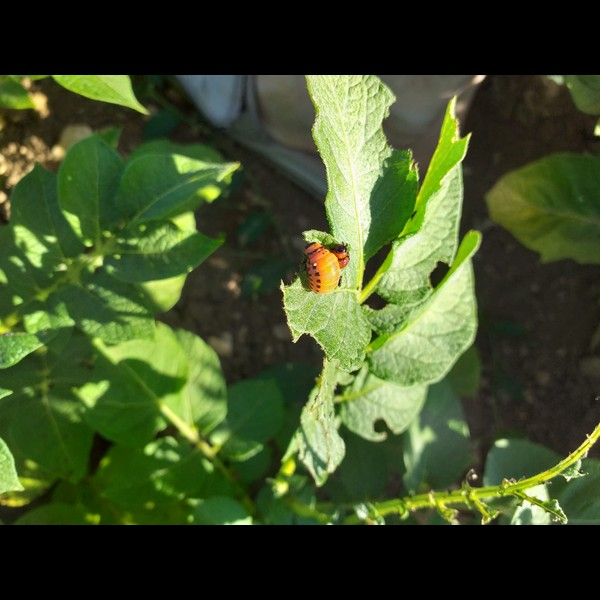hrosc: (301, 237, 352, 295)
